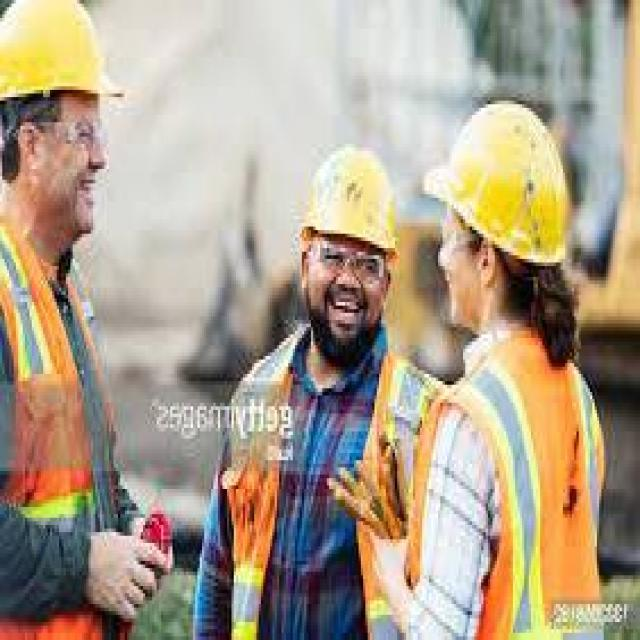Reflective-Jacket: (216, 342, 429, 636), (429, 327, 610, 640), (0, 208, 122, 640)
Safety-Helmet: (424, 94, 586, 280), (0, 0, 125, 129), (291, 137, 406, 266)
